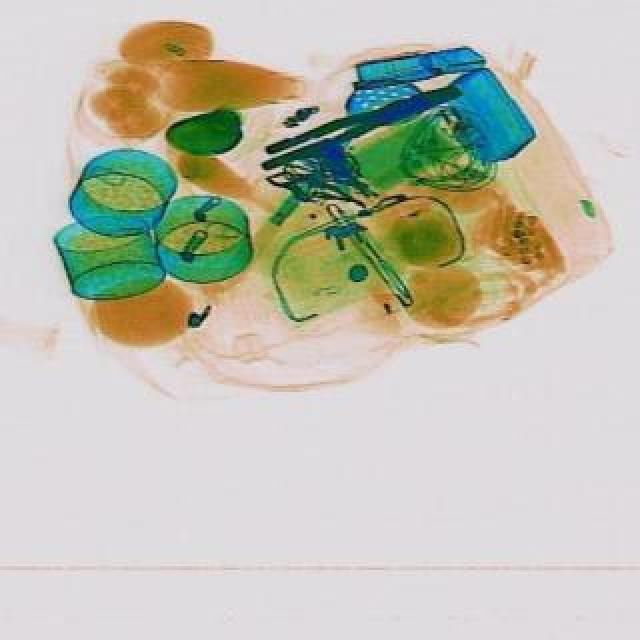wrench: (258, 78, 468, 178)
